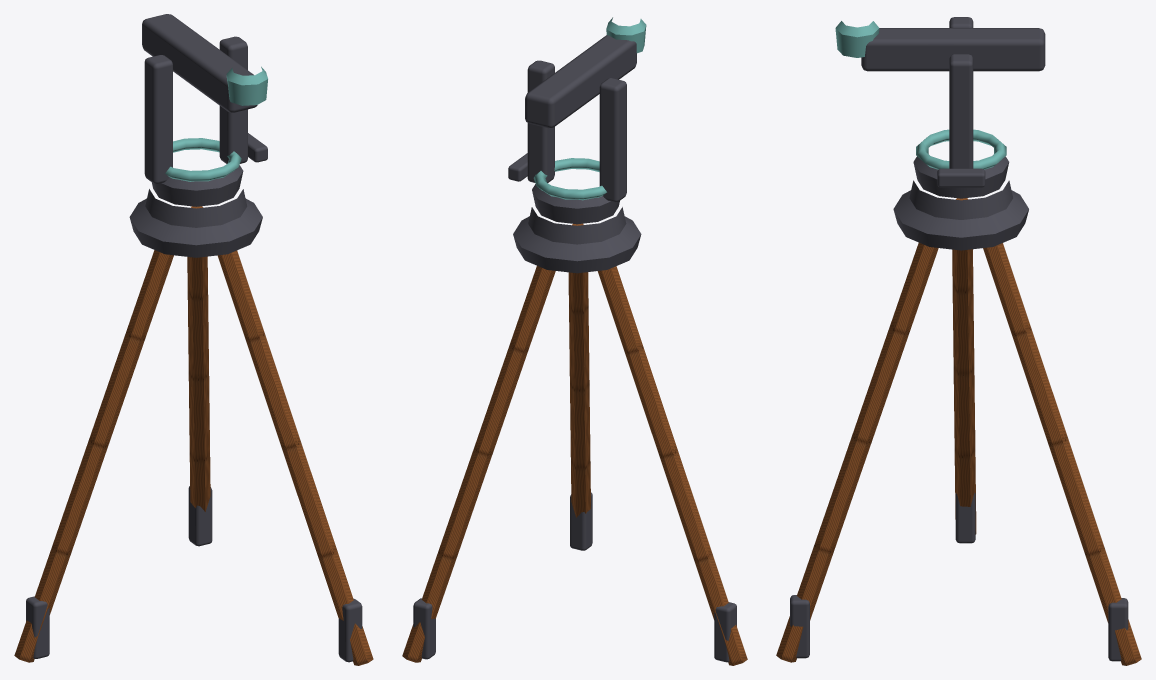
File: jungle-temple-and-stone-city-theodolite-on-tripod-3abce091__36148.glb
3 views of the same model, side by side, from view 1: azimuth 30°, elevation 25°; view 2: azimuth 150°, elevation 25°; view 3: azimuth 270°, elevation 25° (orthographic). The views are drawn at different scales.
Visible parts, largest first — view 1: theodolite-on-tripod, scope-theodolite/obsidian, scope-theodolite/jade; view 2: theodolite-on-tripod, scope-theodolite/obsidian, scope-theodolite/jade; view 3: theodolite-on-tripod, scope-theodolite/obsidian, scope-theodolite/jade.
Boxes of the visible parts, <box> form: theodolite-on-tripod: <box>14,189,373,665</box>; scope-theodolite/obsidian: <box>142,14,267,206</box>; scope-theodolite/jade: <box>165,66,267,181</box>; theodolite-on-tripod: <box>402,207,747,665</box>; scope-theodolite/obsidian: <box>508,35,636,224</box>; scope-theodolite/jade: <box>533,17,646,200</box>; theodolite-on-tripod: <box>776,180,1141,665</box>; scope-theodolite/obsidian: <box>861,17,1045,198</box>; scope-theodolite/jade: <box>835,21,1006,169</box>.
Size of the model in its own units: 0.8035 by 1.66 by 0.9152.
Materials: 3 (1 with a texture image).
